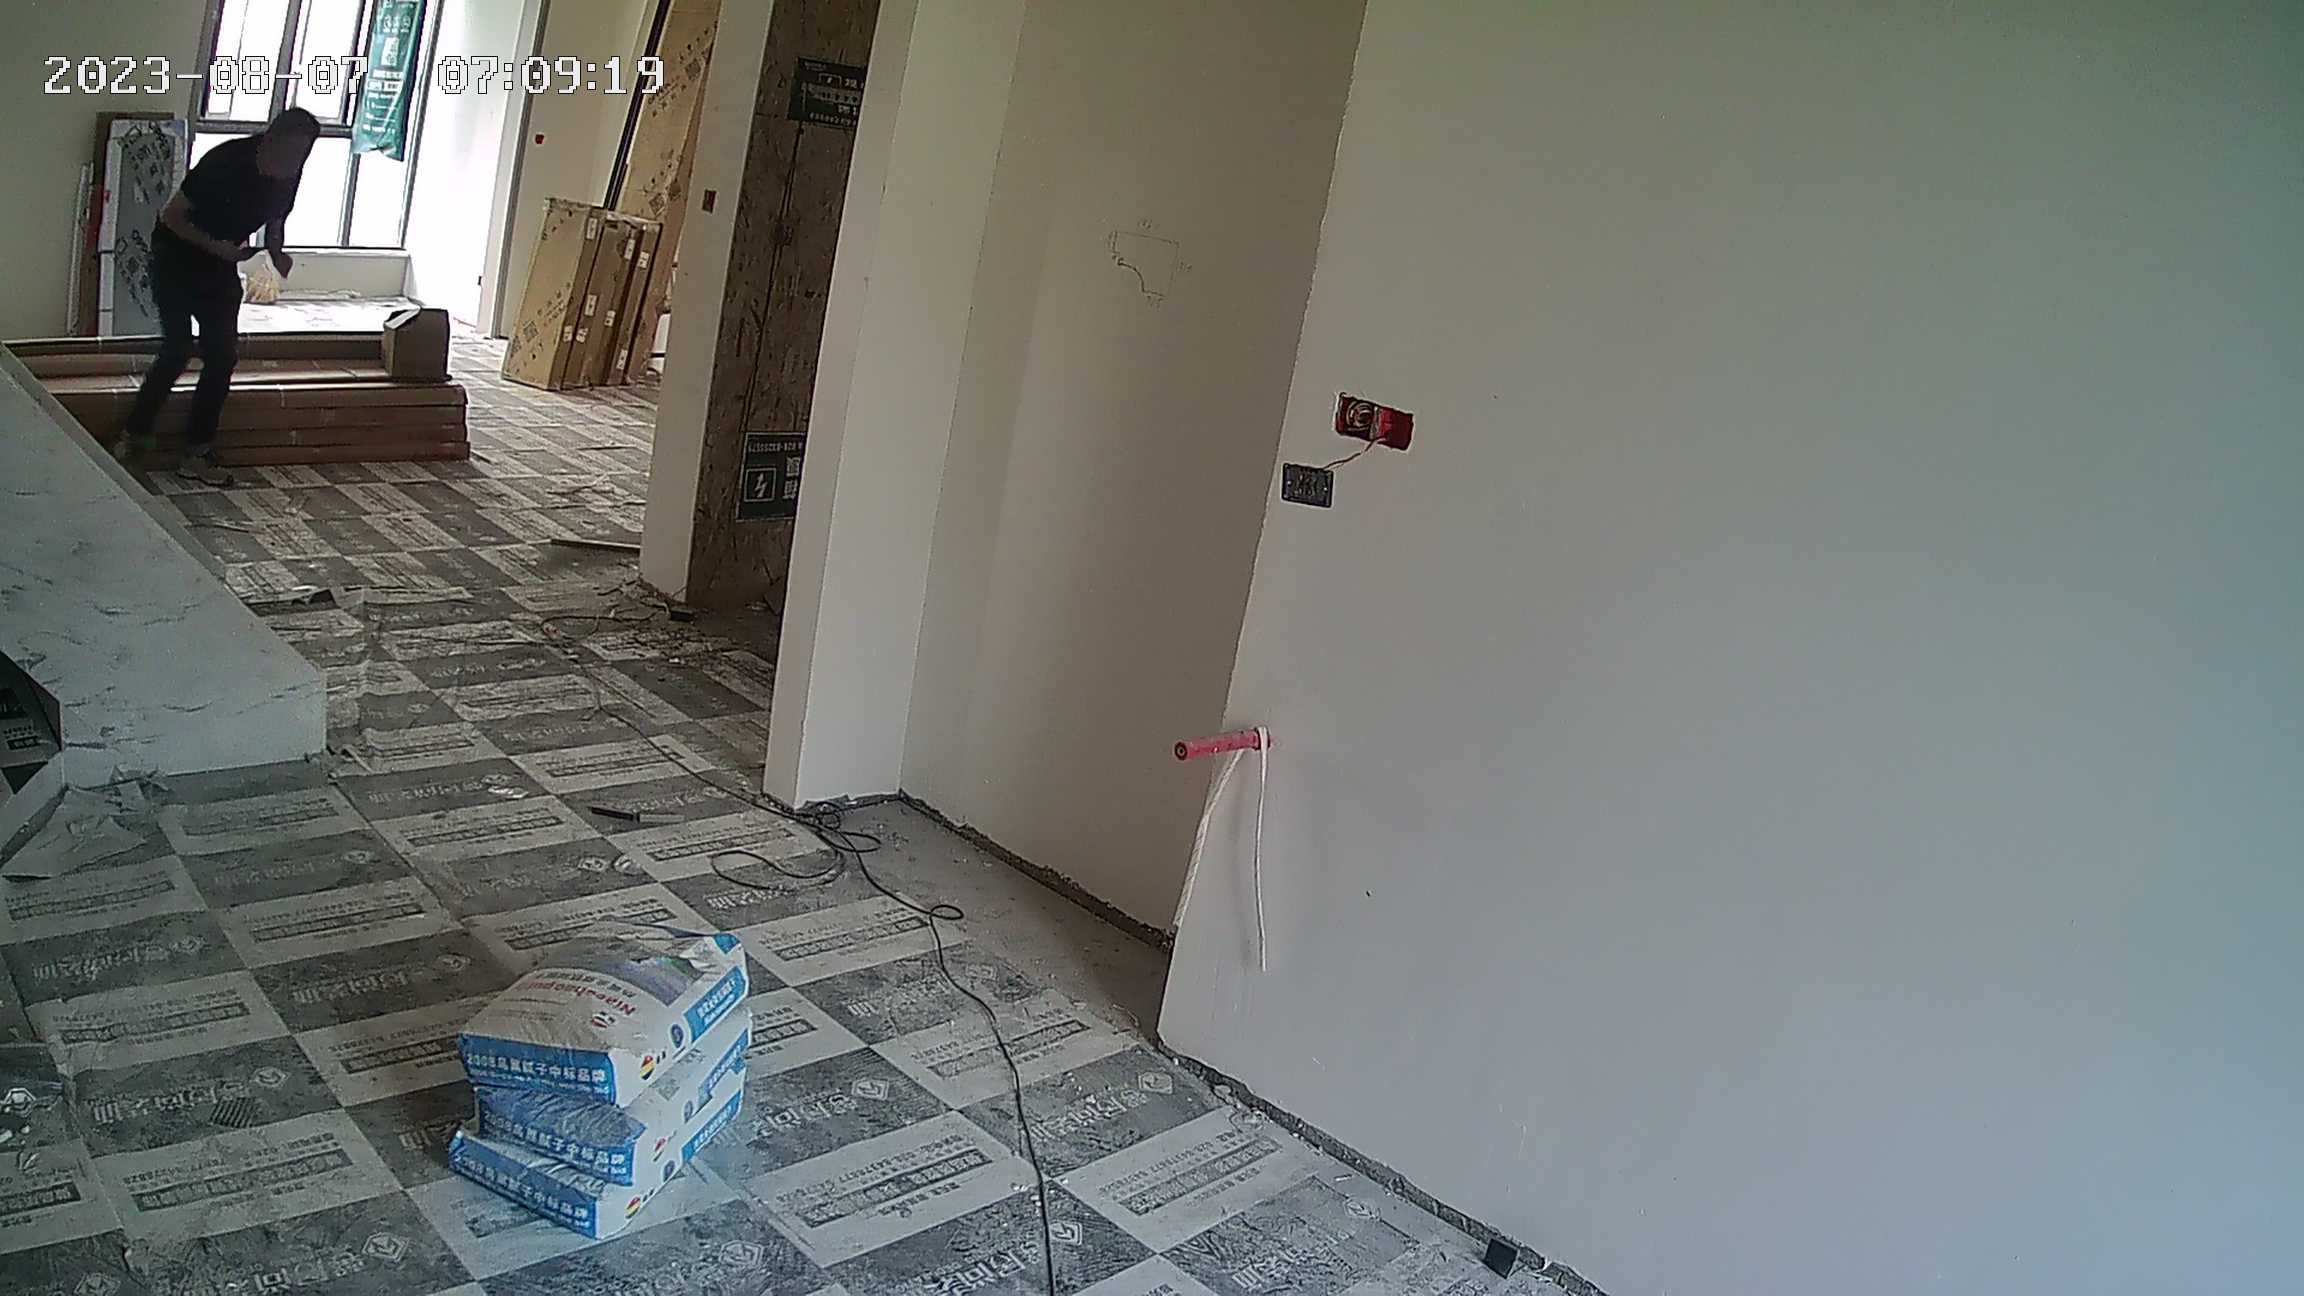people: (143, 102, 320, 495)
window: (195, 1, 437, 239)
